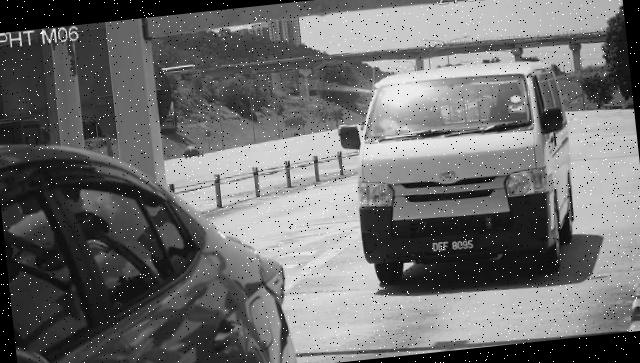License_Plate: (429, 233, 479, 260)
van: (347, 58, 584, 292)
